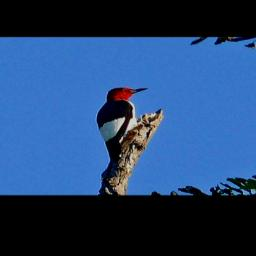Woodpecker: (84, 81, 156, 178)
